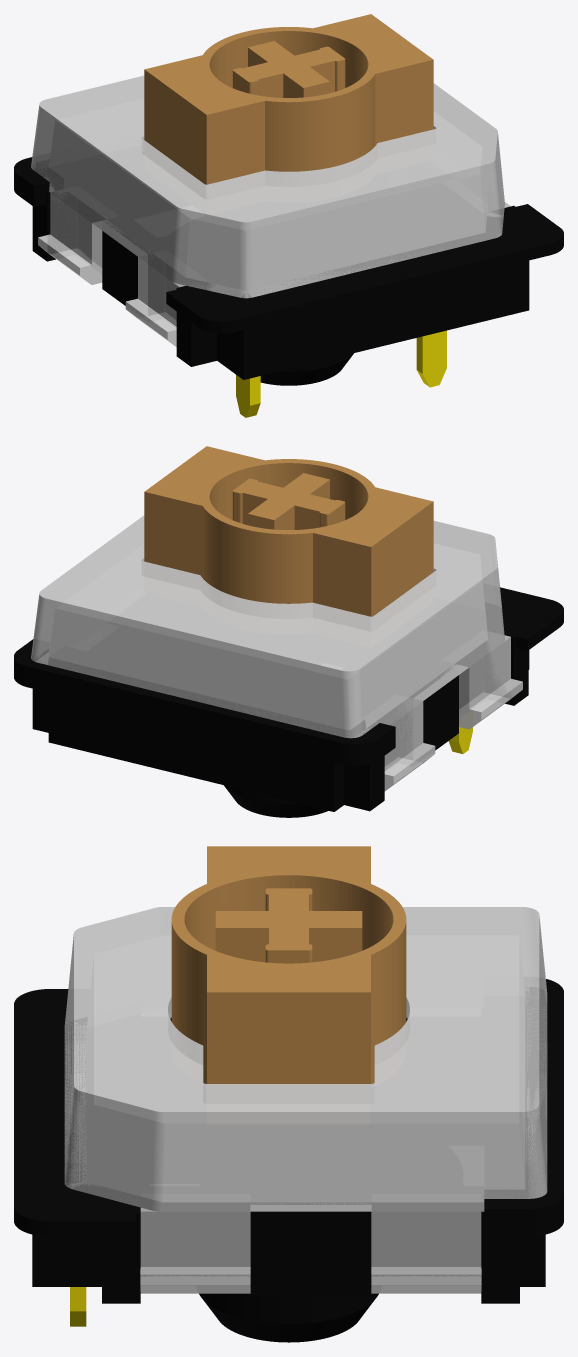
3 views of the same model, one above another, from view 1: azimuth 30°, elevation 25°; view 2: azimuth 150°, elevation 25°; view 3: azimuth 270°, elevation 25° (orthographic). The views are drawn at different scales.
Visible parts, largest first — view 1: Node3, Node2, Node4, Node1; view 2: Node3, Node2, Node4; view 3: Node3, Node2, Node4, Node1.
Part boxes in pixels (bbox=[...]): Node3: bbox=[31, 75, 510, 346]; Node2: bbox=[14, 157, 563, 385]; Node4: bbox=[144, 14, 433, 184]; Node1: bbox=[236, 330, 446, 417]; Node3: bbox=[31, 515, 522, 791]; Node2: bbox=[14, 587, 563, 817]; Node4: bbox=[144, 446, 433, 616]; Node3: bbox=[64, 907, 547, 1293]; Node2: bbox=[14, 979, 563, 1342]; Node4: bbox=[171, 846, 406, 1083]; Node1: bbox=[70, 1287, 86, 1326].
Size of the model in its own units: 15 by 11.8 by 15.
